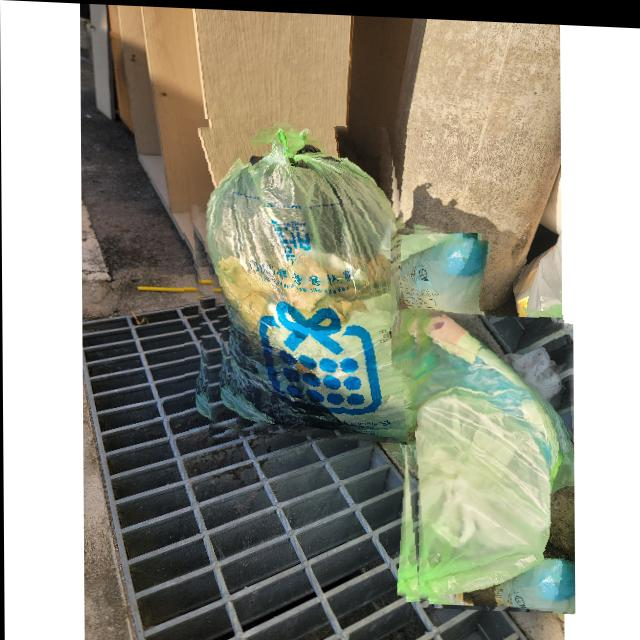general_trashbag: (183, 124, 414, 431), (413, 305, 572, 608), (391, 223, 491, 366)
